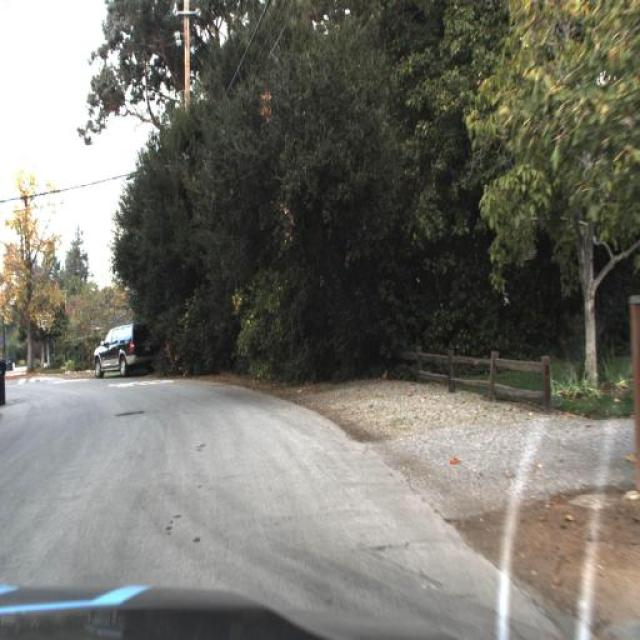car: (88, 311, 164, 385)
